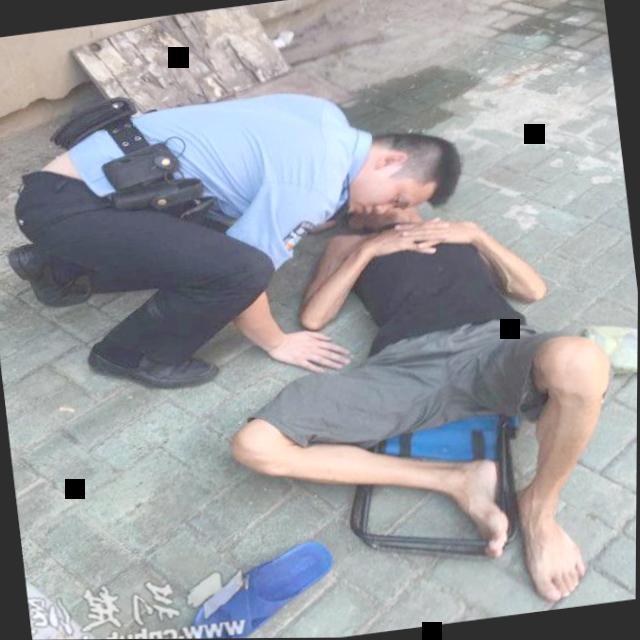Fall-Detected: (198, 137, 639, 639)
